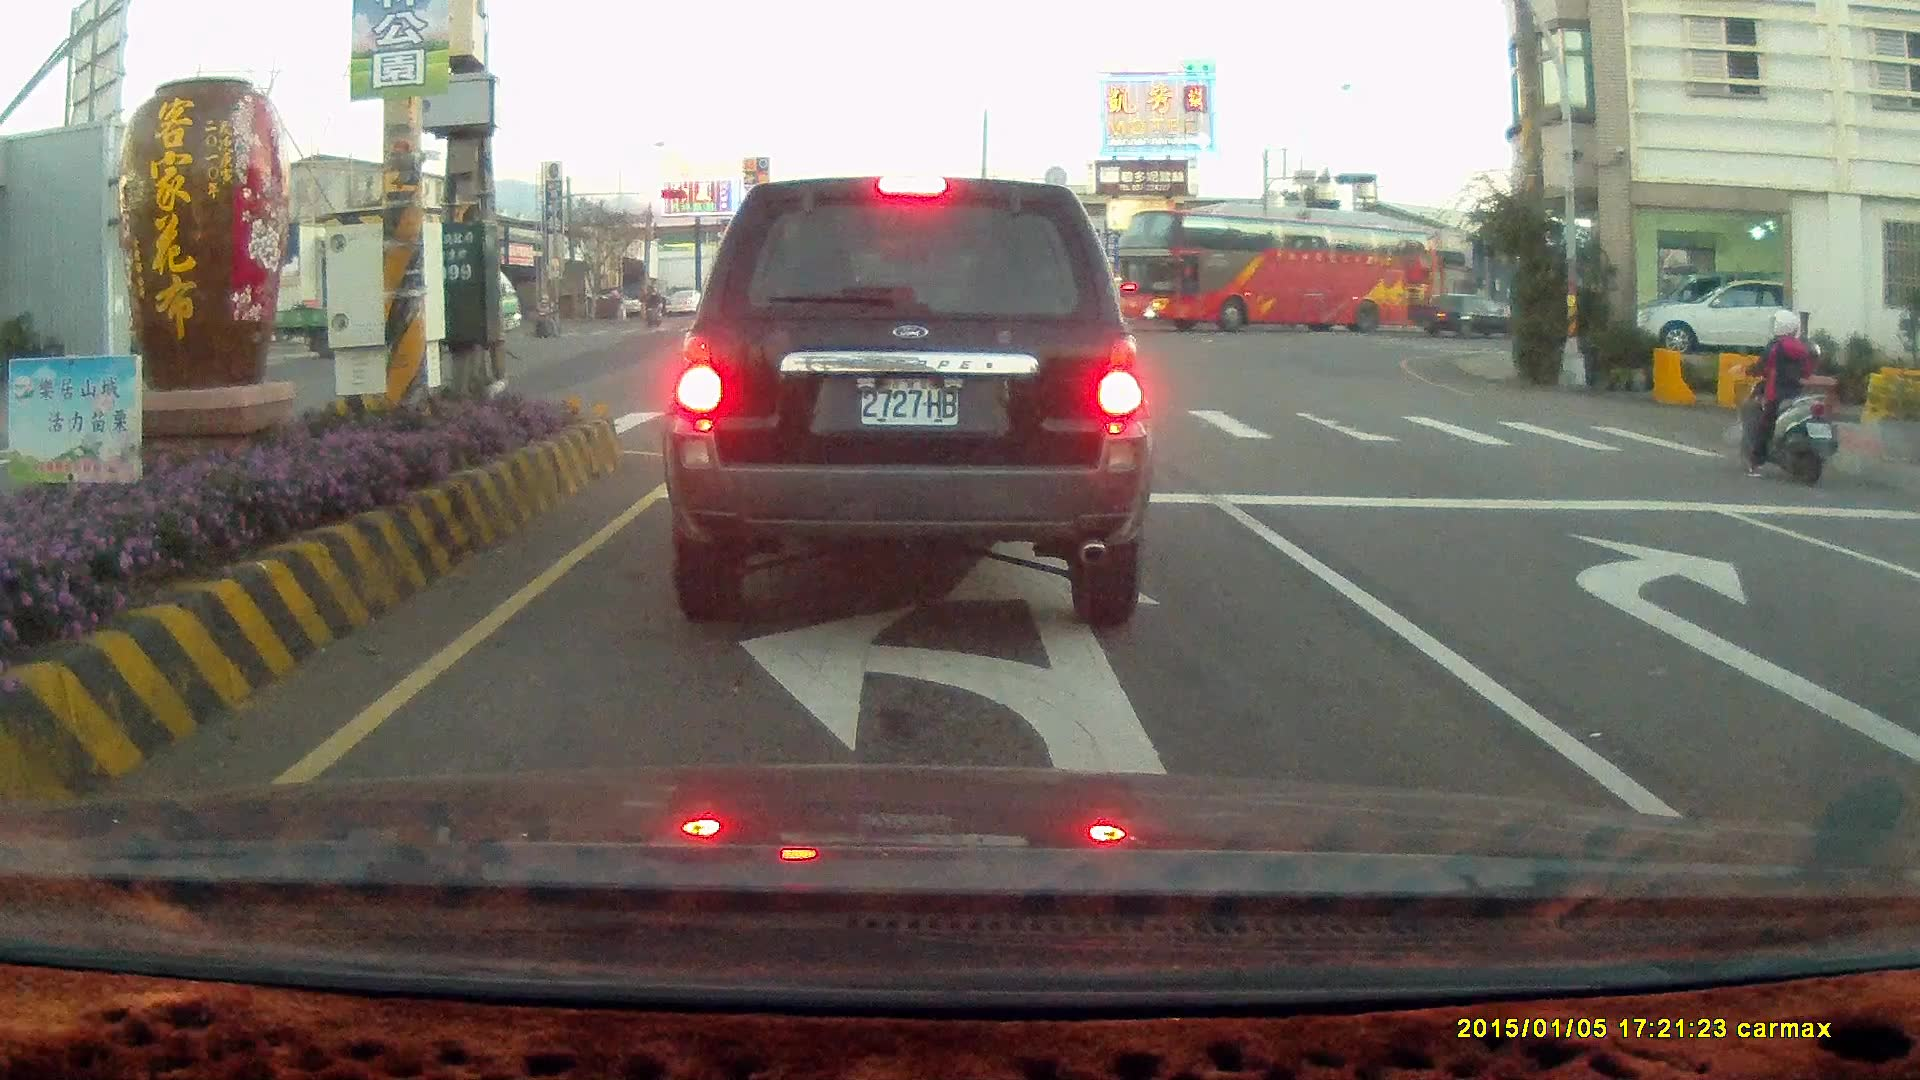rider: (1727, 306, 1839, 486), (532, 290, 559, 338), (641, 289, 662, 326)
vehicle: (660, 173, 1154, 630), (1116, 217, 1444, 335), (1623, 275, 1832, 354), (1642, 275, 1784, 356), (1896, 493, 1920, 836), (1407, 290, 1538, 342), (1883, 528, 1920, 690)
